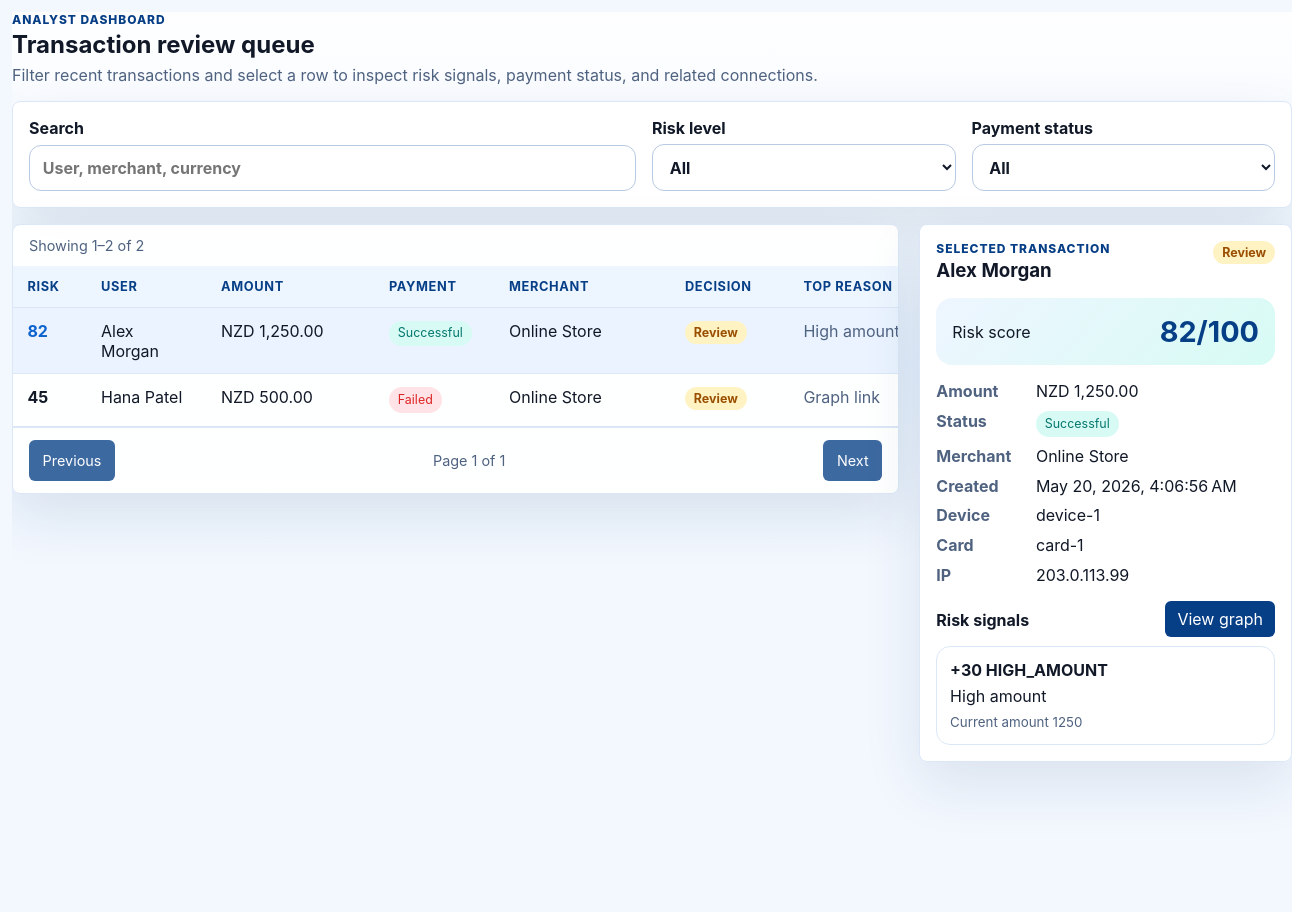
ReviewQueueComponent › selects a transaction when the row is clicked
Click the row with class "transaction-row" that starts with "Hana Patel". click: (529, 400)
box: [13,374,1045,426]
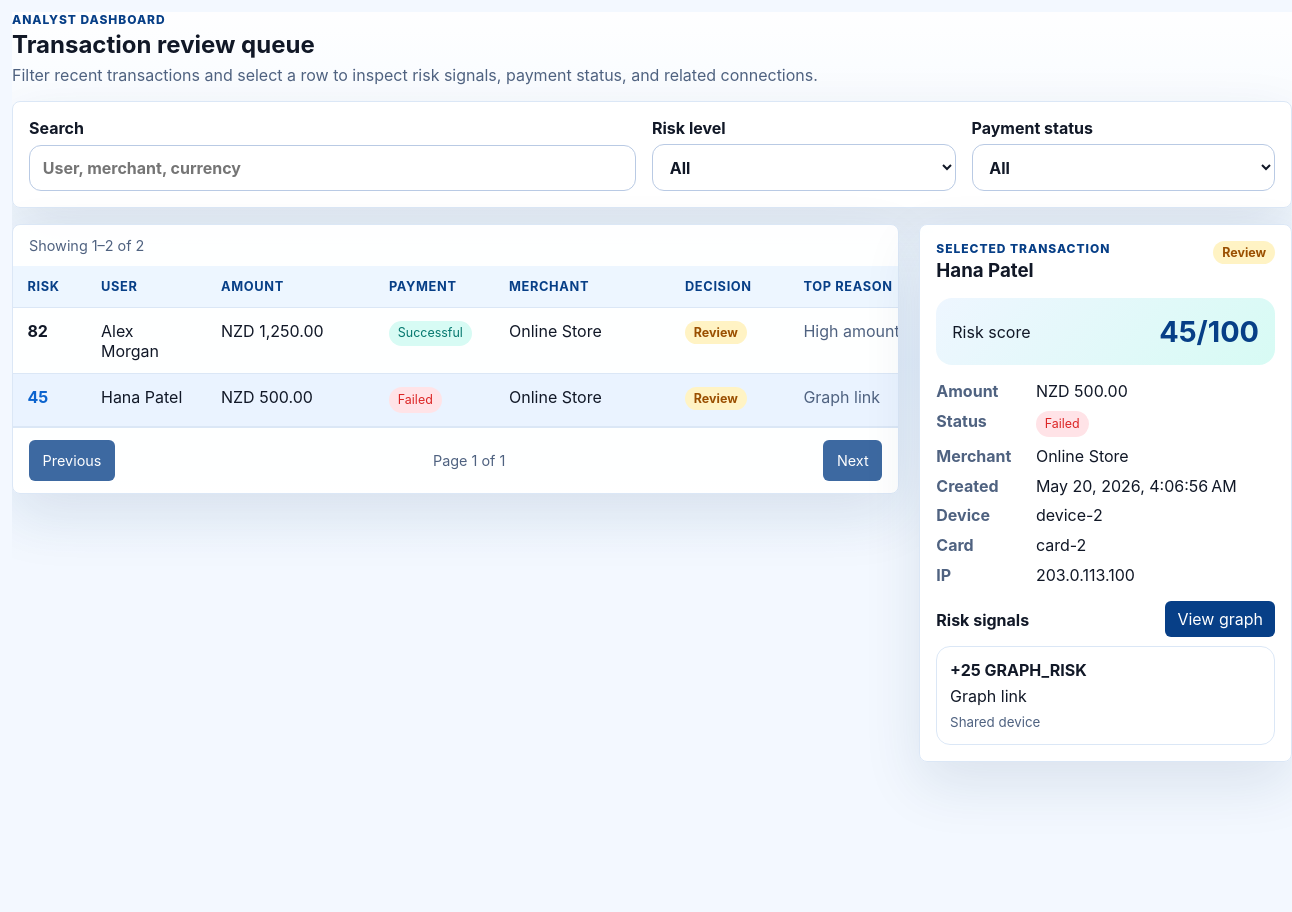
expect the text "Hana Patel" is shown: met, box [87,374,207,426]
expect the text "device-2" is shown: met, box [1036,505,1103,525]
